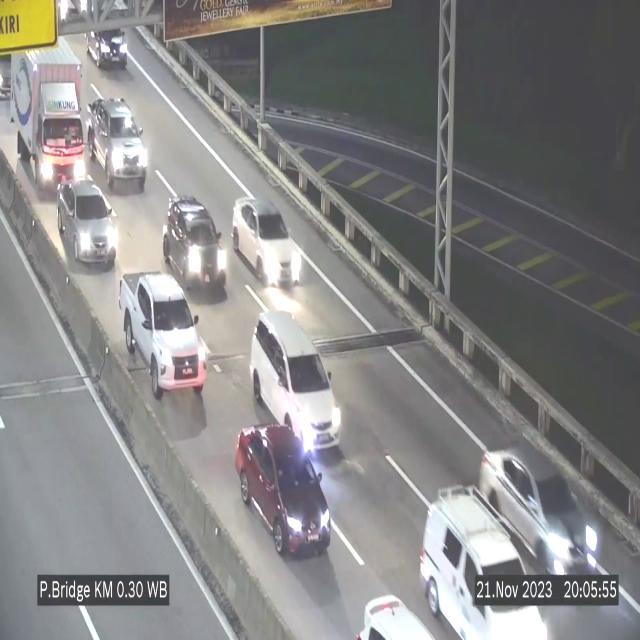Car: (420, 486, 550, 640), (484, 434, 598, 577), (235, 418, 335, 555), (250, 311, 342, 452), (120, 271, 211, 405), (164, 191, 226, 306), (231, 197, 301, 286), (56, 168, 116, 266), (90, 96, 147, 190), (85, 15, 133, 69)
Truck: (7, 34, 87, 195)
